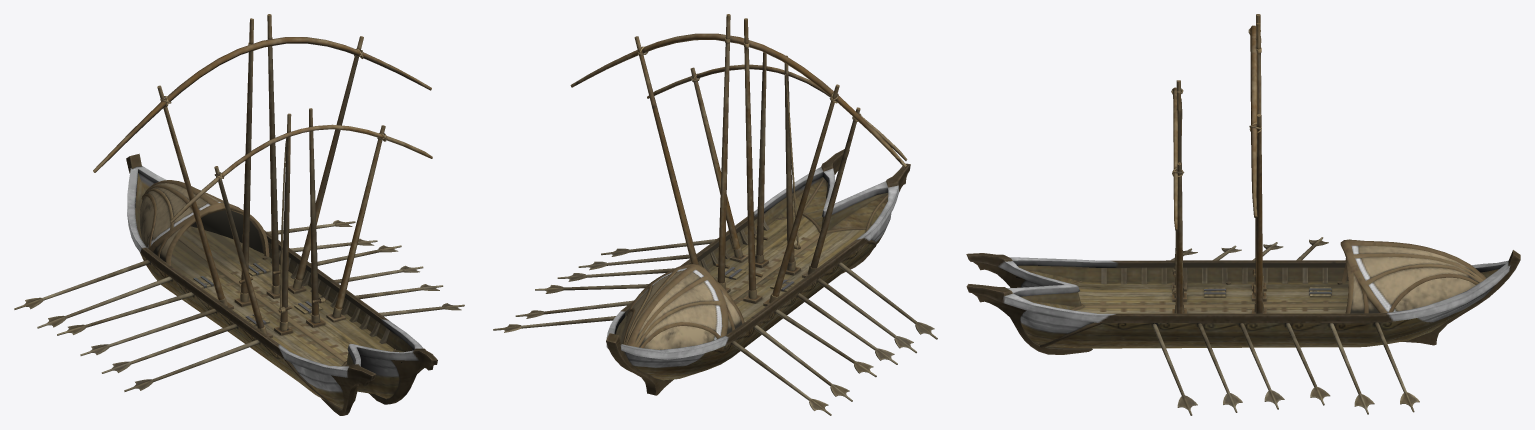
The model's file is body-base.glb.
The picture shows the model from 3 angles, left to right: view 1: azimuth 30°, elevation 25°; view 2: azimuth 150°, elevation 25°; view 3: azimuth 270°, elevation 25°; orthographic projection. The views are drawn at different scales.
Bounding box in the file's own units: 5.65 × 4.98 × 7.72.
1 material, 1 textured.
